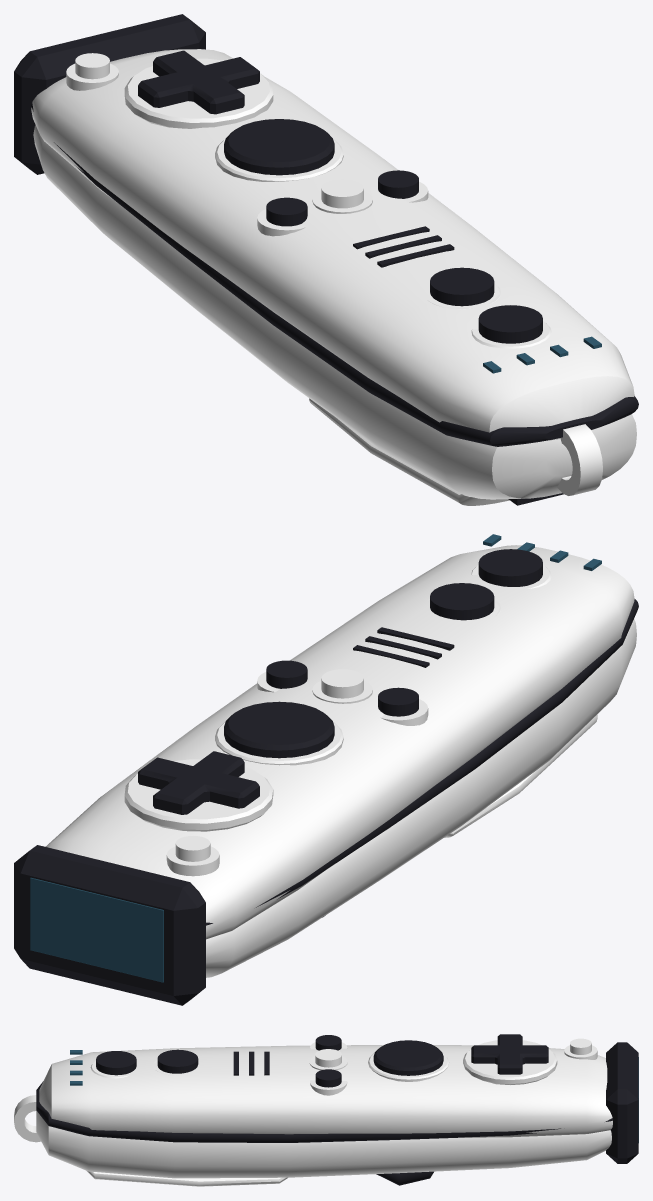
The model's file is con-pointer-remote.glb.
3 renders of one model, top to bottom at view 1: azimuth 30°, elevation 25°; view 2: azimuth 150°, elevation 25°; view 3: azimuth 270°, elevation 25°, orthographic. The views are drawn at different scales.
Parts seen in each view (by area): view 1: part_remote_contoured_face_shell, part_remote_lower_sculpted_shell, part_remote_optical_bezel, part_remote_continuous_shell_seal, part_remote_dpad_cross, part_button_a_cap, part_dpad_socket, part_wrist_strap_eye, part_button_two_cap, part_button_one_cap, part_remote_battery_hatch, part_button_a_socket (+5 smaller); view 2: part_remote_contoured_face_shell, part_remote_lower_sculpted_shell, part_remote_optical_bezel, part_remote_optical_window, part_remote_dpad_cross, part_button_a_cap, part_dpad_socket, part_remote_continuous_shell_seal, part_button_two_cap, part_button_one_cap, part_button_a_socket, part_button_home_cap (+5 smaller); view 3: part_remote_contoured_face_shell, part_remote_lower_sculpted_shell, part_remote_continuous_shell_seal, part_remote_optical_bezel, part_button_a_cap, part_remote_dpad_cross, part_dpad_socket, part_remote_battery_hatch, part_button_two_cap, part_button_one_cap, part_wrist_strap_eye, part_button_a_socket (+7 smaller).
Boxes of the visible parts, x1=… form: part_remote_contoured_face_shell: x1=31, y1=49, x2=634, y2=440; part_remote_lower_sculpted_shell: x1=33, y1=125, x2=636, y2=499; part_remote_optical_bezel: x1=14, y1=14, x2=205, y2=174; part_remote_continuous_shell_seal: x1=31, y1=103, x2=638, y2=446; part_remote_dpad_cross: x1=138, y1=50, x2=259, y2=114; part_button_a_cap: x1=224, y1=119, x2=334, y2=175; part_dpad_socket: x1=124, y1=58, x2=273, y2=128; part_wrist_strap_eye: x1=557, y1=424, x2=602, y2=495; part_button_two_cap: x1=478, y1=305, x2=542, y2=343; part_button_one_cap: x1=430, y1=267, x2=494, y2=306; part_remote_battery_hatch: x1=309, y1=398, x2=509, y2=505; part_button_a_socket: x1=215, y1=139, x2=343, y2=181; part_remote_contoured_face_shell: x1=45, y1=545, x2=634, y2=939; part_remote_lower_sculpted_shell: x1=206, y1=618, x2=636, y2=977; part_remote_optical_bezel: x1=14, y1=845, x2=205, y2=1005; part_remote_optical_window: x1=30, y1=877, x2=163, y2=982; part_remote_dpad_cross: x1=138, y1=751, x2=259, y2=814; part_button_a_cap: x1=224, y1=701, x2=334, y2=758; part_dpad_socket: x1=124, y1=759, x2=273, y2=831; part_remote_continuous_shell_seal: x1=206, y1=599, x2=638, y2=925; part_button_two_cap: x1=478, y1=549, x2=542, y2=586; part_button_one_cap: x1=430, y1=583, x2=494, y2=620; part_button_a_socket: x1=215, y1=722, x2=343, y2=765; part_button_home_cap: x1=321, y1=669, x2=363, y2=698; part_remote_contoured_face_shell: x1=39, y1=1045, x2=612, y2=1137; part_remote_lower_sculpted_shell: x1=36, y1=1111, x2=611, y2=1178; part_remote_continuous_shell_seal: x1=36, y1=1081, x2=612, y2=1142; part_remote_optical_bezel: x1=606, y1=1042, x2=638, y2=1163; part_button_a_cap: x1=373, y1=1040, x2=443, y2=1075; part_remote_dpad_cross: x1=471, y1=1034, x2=548, y2=1074; part_dpad_socket: x1=463, y1=1040, x2=557, y2=1084; part_remote_battery_hatch: x1=86, y1=1170, x2=287, y2=1186; part_button_two_cap: x1=96, y1=1051, x2=136, y2=1075; part_button_one_cap: x1=157, y1=1049, x2=198, y2=1073; part_wrist_strap_eye: x1=14, y1=1095, x2=40, y2=1142; part_button_a_socket: x1=368, y1=1053, x2=449, y2=1081.
Size of what is drawn, in the model's own units: 0.0378 by 0.0351 by 0.1536.
